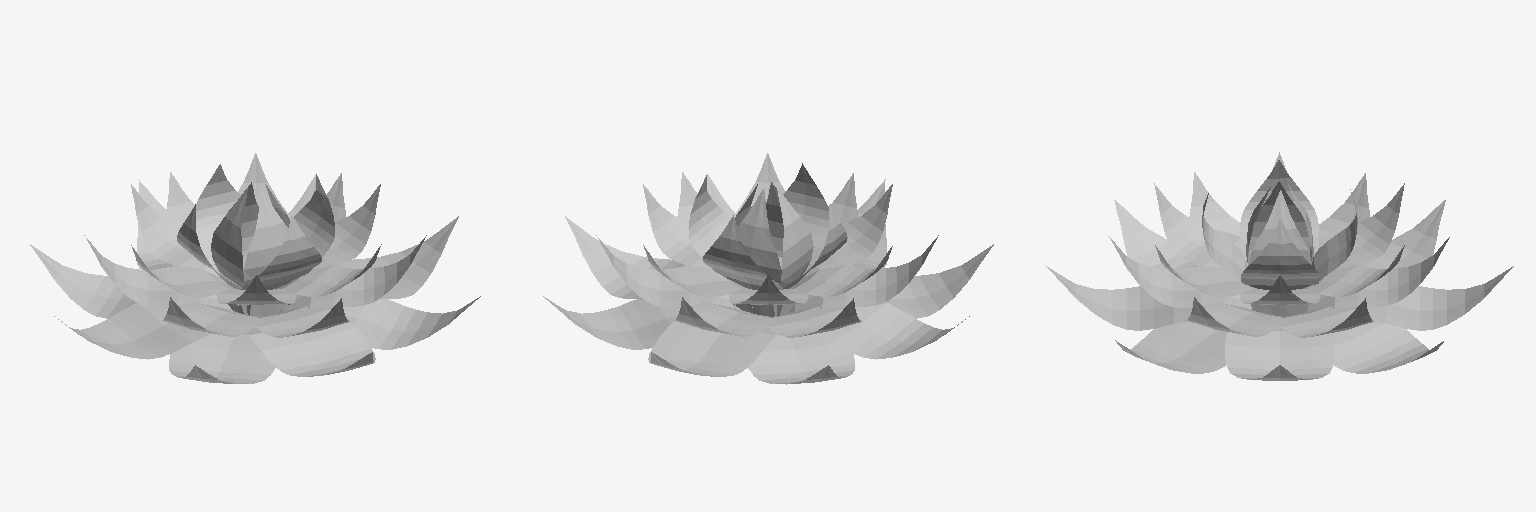
File: LotusVersion3 (1).obj
3 views of the same model, side by side, from view 1: azimuth 30°, elevation 25°; view 2: azimuth 150°, elevation 25°; view 3: azimuth 270°, elevation 25° (orthographic).
Parts seen in each view (by area): view 1: Petals1 lotus_petal_5, Petals1 lotus_petal_3, Petals1 lotus_petal_4, Petals1 lotus_petal_6, lotus_petal_2 Petals1, Petals4 lotus_petal_24, Petals2 lotus_petal_13, Petals2 lotus_petal_10, Petals1 lotus_petal_7, Petals3 lotus_petal_21, Petals2 lotus_petal_11, lotus_petal_19 Petals3 (+14 smaller); view 2: Petals1 lotus_petal_1, Petals1 lotus_petal_3, lotus_petal_2 Petals1, Petals1 lotus_petal_8, Petals1 lotus_petal_4, lotus_petal_26 Petals4, Petals2 lotus_petal_11, Petals1 lotus_petal_7, Petals2 lotus_petal_14, Petals3 lotus_petal_17, Petals2 lotus_petal_15, Petals4 lotus_petal_24 (+14 smaller); view 3: Petals1 lotus_petal_7, Petals1 lotus_petal_6, Petals1 lotus_petal_8, Petals1 lotus_petal_1, Petals1 lotus_petal_5, Petals4 lotus_petal_25, Petals2 lotus_petal_15, lotus_petal_12 Petals2, Petals3 lotus_petal_17, Petals3 lotus_petal_21, Petals2 lotus_petal_13, Petals1 lotus_petal_4 (+12 smaller).
Boxes of the visible parts, <box> form: Petals1 lotus_petal_5: <box>246,322,375,376</box>; Petals1 lotus_petal_3: <box>54,303,211,359</box>; Petals1 lotus_petal_4: <box>169,333,275,383</box>; Petals1 lotus_petal_6: <box>343,296,480,349</box>; lotus_petal_2 Petals1: <box>30,244,136,318</box>; Petals4 lotus_petal_24: <box>241,216,321,316</box>; Petals2 lotus_petal_13: <box>280,235,426,311</box>; Petals2 lotus_petal_10: <box>84,235,232,310</box>; Petals1 lotus_petal_7: <box>340,216,458,298</box>; Petals3 lotus_petal_21: <box>131,184,238,305</box>; Petals2 lotus_petal_11: <box>162,297,265,336</box>; lotus_petal_19 Petals3: <box>272,184,380,306</box>; Petals1 lotus_petal_1: <box>648,321,775,376</box>; Petals1 lotus_petal_3: <box>814,302,969,359</box>; lotus_petal_2 Petals1: <box>748,334,854,384</box>; Petals1 lotus_petal_8: <box>543,296,679,349</box>; Petals1 lotus_petal_4: <box>887,244,993,318</box>; lotus_petal_26 Petals4: <box>702,215,783,316</box>; Petals2 lotus_petal_11: <box>789,235,938,312</box>; Petals1 lotus_petal_7: <box>565,216,684,298</box>; Petals2 lotus_petal_14: <box>596,235,740,309</box>; Petals3 lotus_petal_17: <box>785,184,892,305</box>; Petals2 lotus_petal_15: <box>674,297,777,336</box>; Petals4 lotus_petal_24: <box>783,163,828,265</box>; Petals1 lotus_petal_7: <box>1225,327,1334,380</box>; Petals1 lotus_petal_6: <box>1115,321,1226,373</box>; Petals1 lotus_petal_8: <box>1333,322,1443,373</box>; Petals1 lotus_petal_1: <box>1367,266,1513,330</box>; Petals1 lotus_petal_5: <box>1046,266,1191,330</box>; Petals4 lotus_petal_25: <box>1241,219,1319,316</box>; Petals2 lotus_petal_15: <box>1307,237,1449,310</box>; lotus_petal_12 Petals2: <box>1109,236,1251,308</box>; Petals3 lotus_petal_17: <box>1154,183,1247,268</box>; Petals3 lotus_petal_21: <box>1313,183,1404,268</box>; Petals2 lotus_petal_13: <box>1186,297,1289,336</box>; Petals1 lotus_petal_4: <box>1114,200,1196,269</box>.
Size of the model in its own units: 15.87 by 5.31 by 15.87.